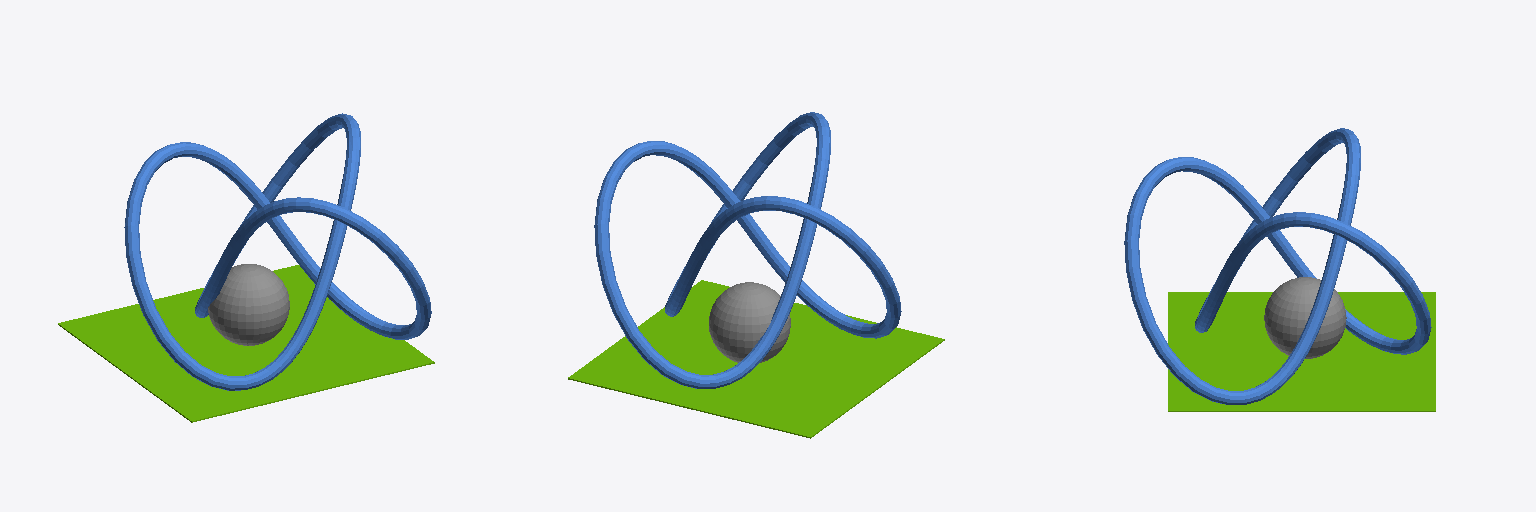
3 renders of one model, left to right at view 1: azimuth 30°, elevation 25°; view 2: azimuth 150°, elevation 25°; view 3: azimuth 270°, elevation 25°, orthographic.
Visible parts, largest first — view 1: Box001, Torus_Knot001, Sphere001; view 2: Box001, Torus_Knot001, Sphere001; view 3: Box001, Torus_Knot001, Sphere001.
Boxes of the visible parts, <box> form: Box001: <box>58,265,434,422</box>; Torus_Knot001: <box>124,113,431,390</box>; Sphere001: <box>208,264,289,345</box>; Box001: <box>568,280,944,438</box>; Torus_Knot001: <box>594,112,901,388</box>; Sphere001: <box>709,282,790,362</box>; Box001: <box>1168,292,1435,411</box>; Torus_Knot001: <box>1124,128,1431,404</box>; Sphere001: <box>1264,277,1346,358</box>.
Size of the model in its own units: 136 by 101 by 147.